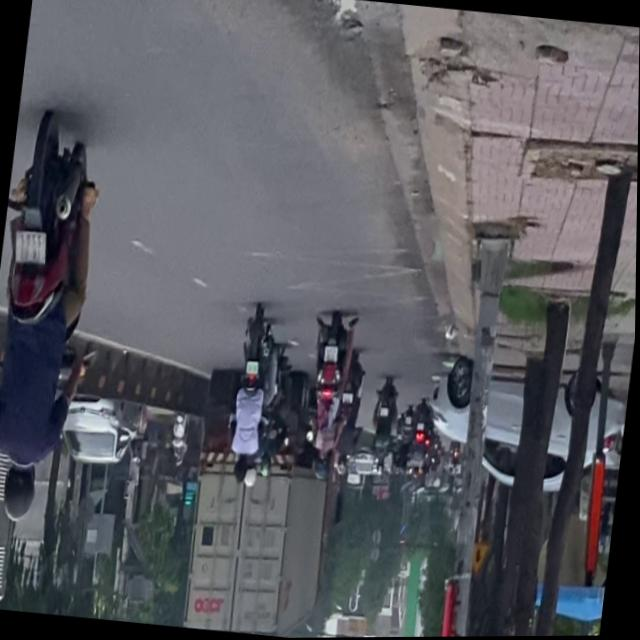helmet: (0, 461, 40, 523)
licenseplate: (0, 109, 114, 530)
nohelmet: (13, 230, 47, 265)
